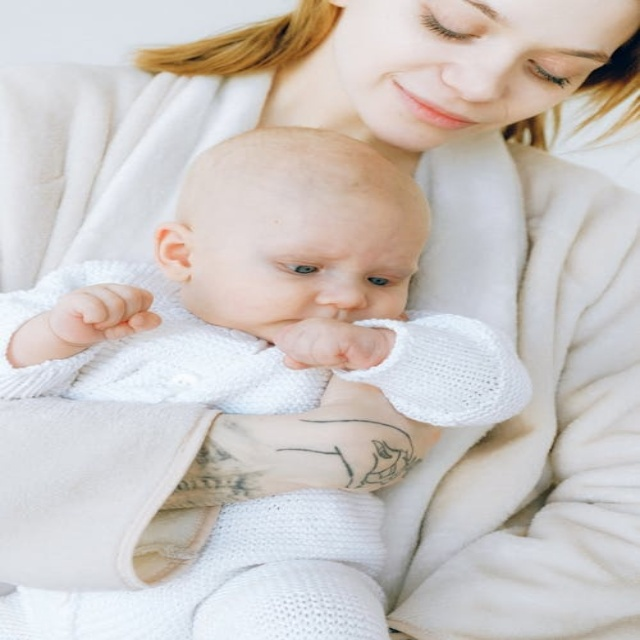Sin_gafas: (416, 3, 599, 87)
Sin_guantes: (42, 281, 160, 349)
Sin_mascara: (379, 66, 489, 144)
